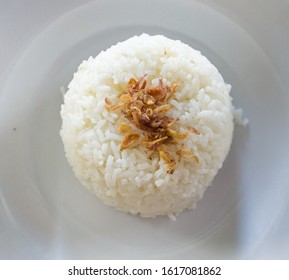Nasi Putih: (37, 23, 259, 230)
